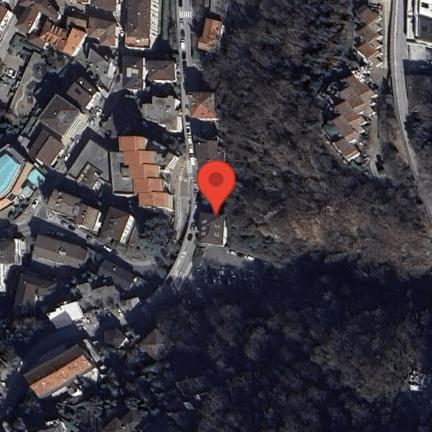area_open: (0, 35, 33, 111)
built: (23, 67, 105, 173), (332, 0, 384, 160), (14, 0, 118, 59), (51, 187, 141, 247), (19, 343, 98, 403), (117, 135, 177, 213), (33, 232, 91, 272), (120, 57, 175, 93), (125, 0, 156, 49), (195, 211, 232, 248), (200, 16, 228, 56), (186, 87, 218, 120), (408, 0, 431, 45), (0, 0, 16, 45)
vegetation_high: (14, 259, 431, 431), (221, 0, 431, 257), (405, 58, 431, 181)
